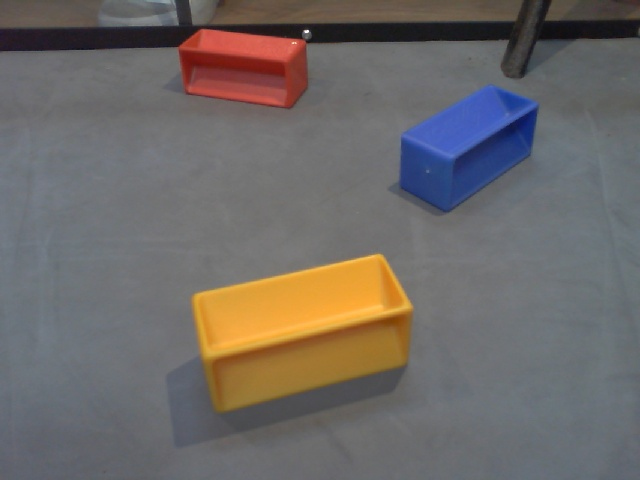BlueSample: (394, 86, 541, 213)
RedSample: (175, 21, 312, 111)
YellowSample: (193, 251, 417, 415)
